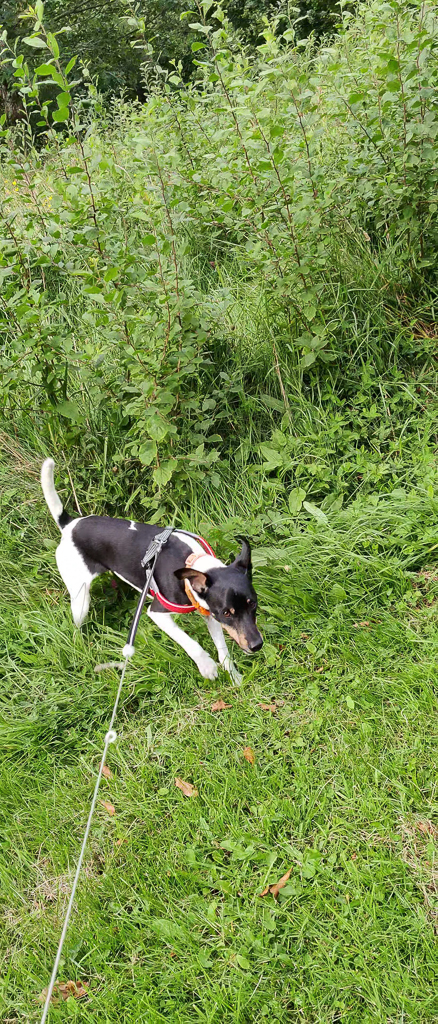Dog: (31, 448, 281, 704)
